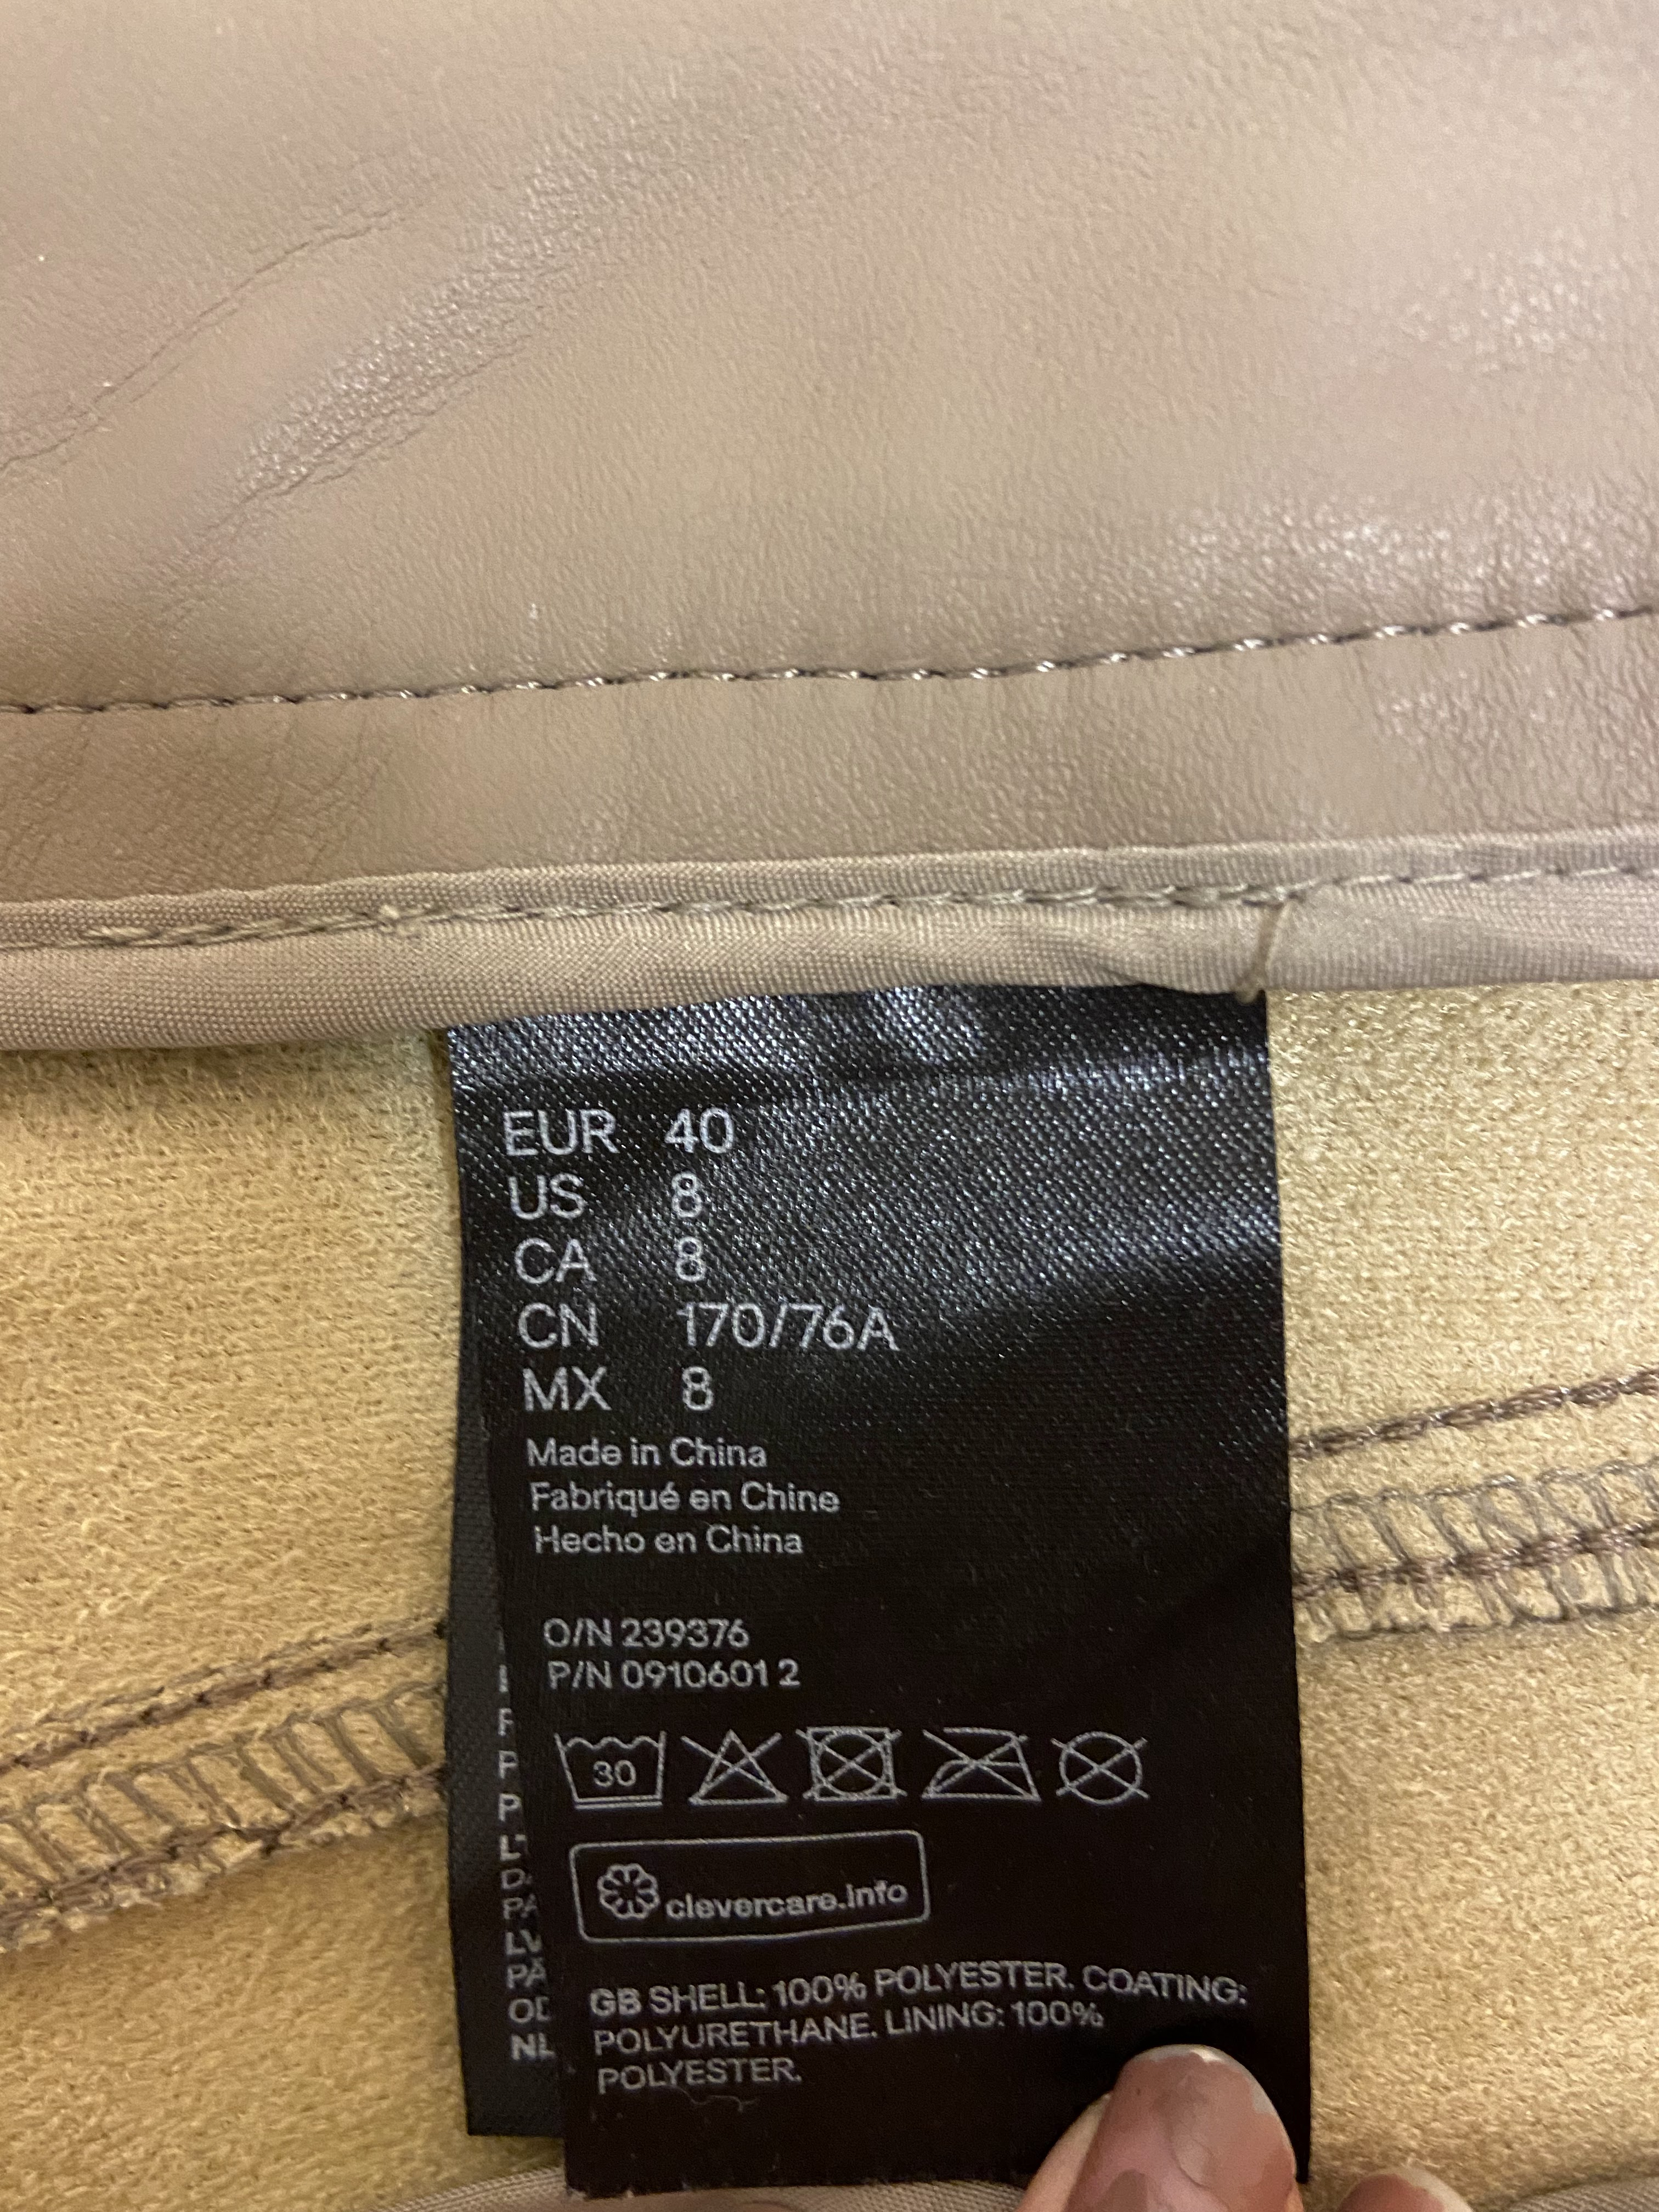do not bleach: (674, 1716, 800, 1825)
do not dry clean: (1044, 1689, 1164, 1832)
do not iron: (925, 1700, 1056, 1829)
do not tumble dry: (786, 1702, 903, 1829)
wash at or below 30: (558, 1726, 683, 1825)
